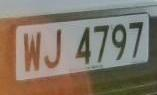4: (71, 24, 93, 68)
7: (126, 17, 147, 61), (91, 21, 111, 65)
9: (110, 22, 131, 62)
J: (43, 26, 66, 74)
W: (19, 27, 45, 78)
